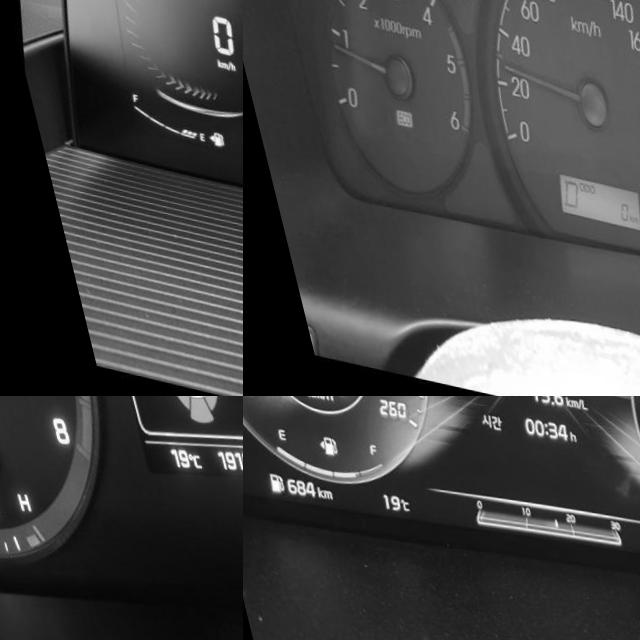Central Warning lamp: (622, 523, 640, 543)
